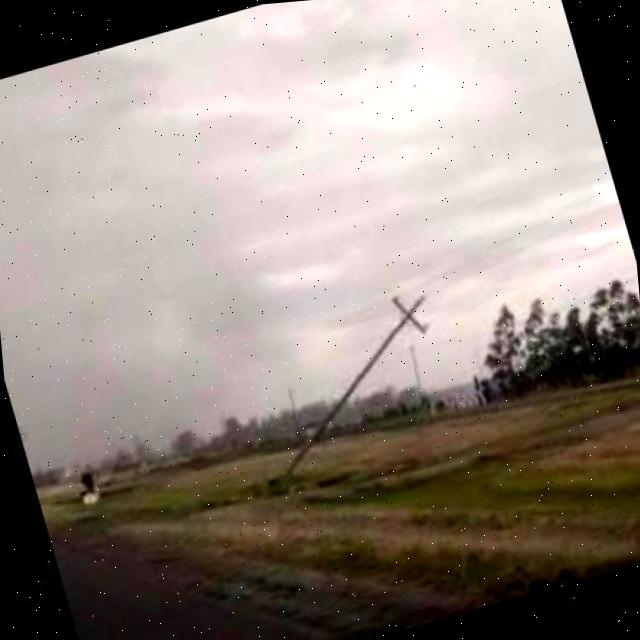Broken Pole: (287, 293, 431, 471)
